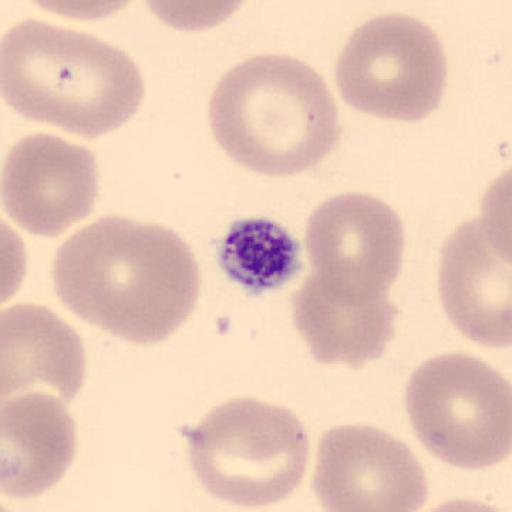Platelet: (213, 214, 306, 296)
RBC: (51, 214, 199, 346), (296, 190, 404, 366), (206, 50, 342, 180), (2, 17, 144, 140), (185, 395, 311, 511), (97, 215, 202, 346), (403, 351, 511, 473), (333, 11, 449, 124), (52, 214, 156, 339), (301, 191, 406, 311), (290, 264, 400, 370), (310, 420, 430, 512), (3, 130, 101, 240), (438, 215, 512, 349), (2, 300, 88, 406), (2, 390, 78, 500), (140, 0, 253, 34), (478, 165, 512, 275), (18, 0, 144, 23), (1, 212, 29, 306), (405, 495, 512, 512)
